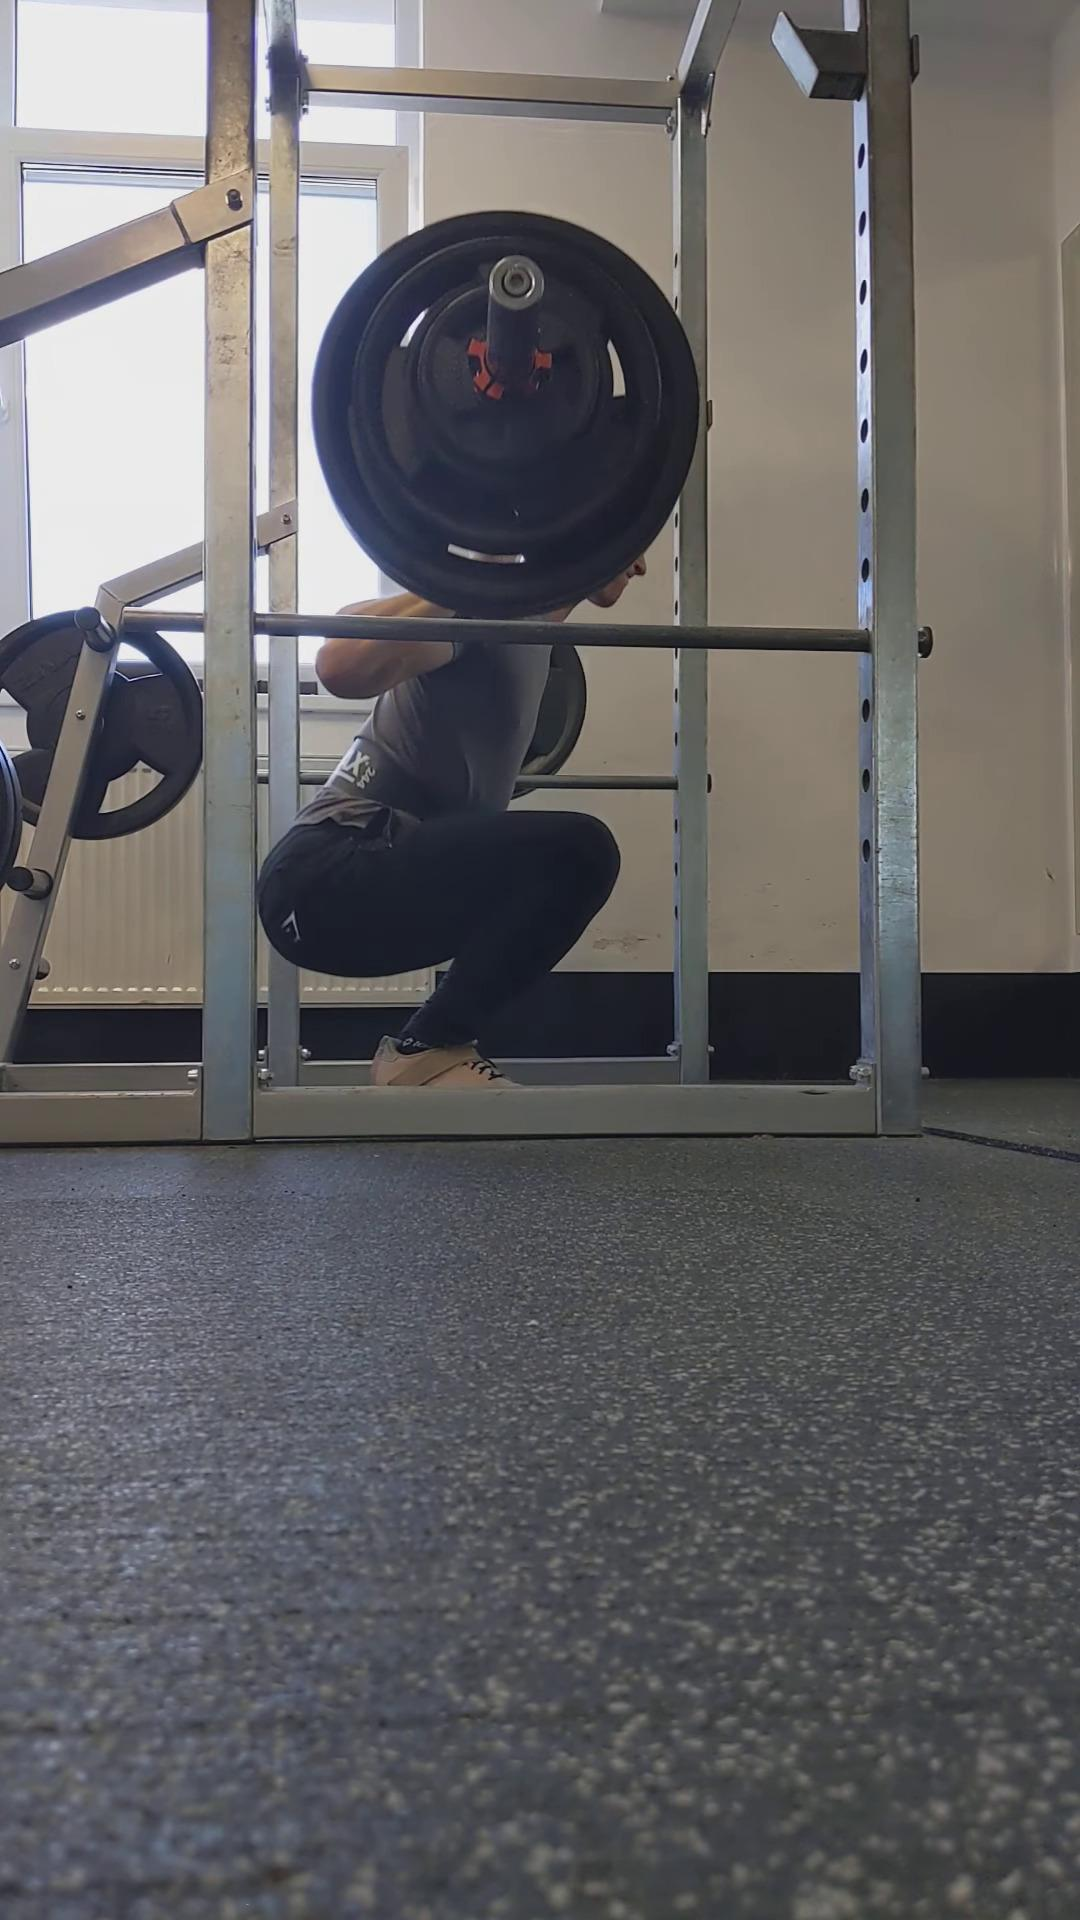barbell: (311, 210, 699, 597)
